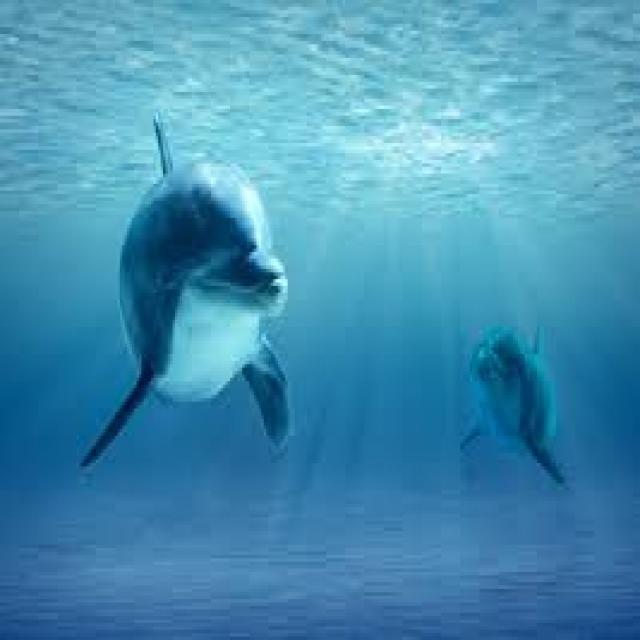dolphin: (64, 109, 304, 542), (458, 272, 576, 528)
